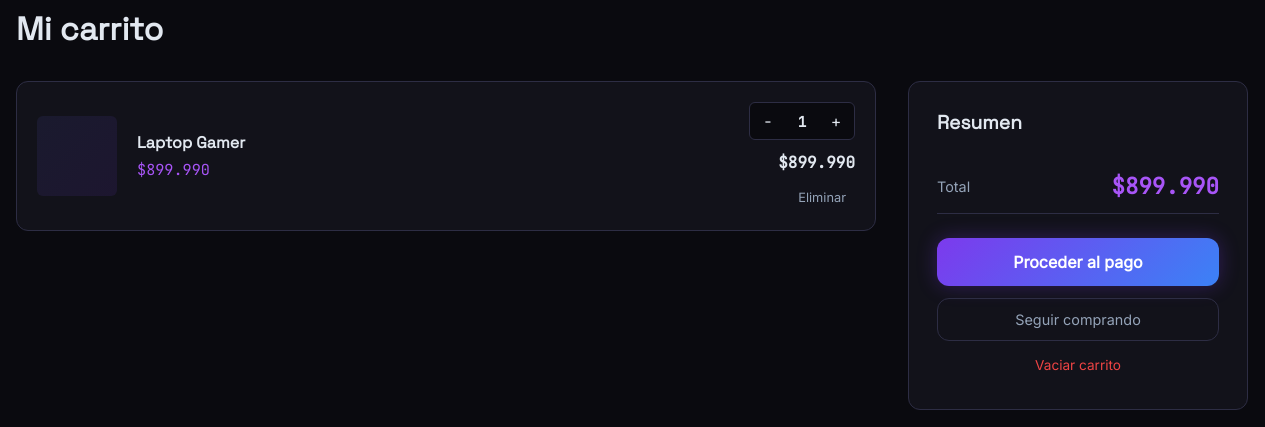
HU-07 · Carrito de compras › CA3: el selector de cantidad incrementa correctamente
Expected: the text "1" is shown, x1=798 y1=112 x2=806 y2=130
Click the button with test id "btn-incrementar-1": click(836, 121) x1=822 y1=107 x2=850 y2=135
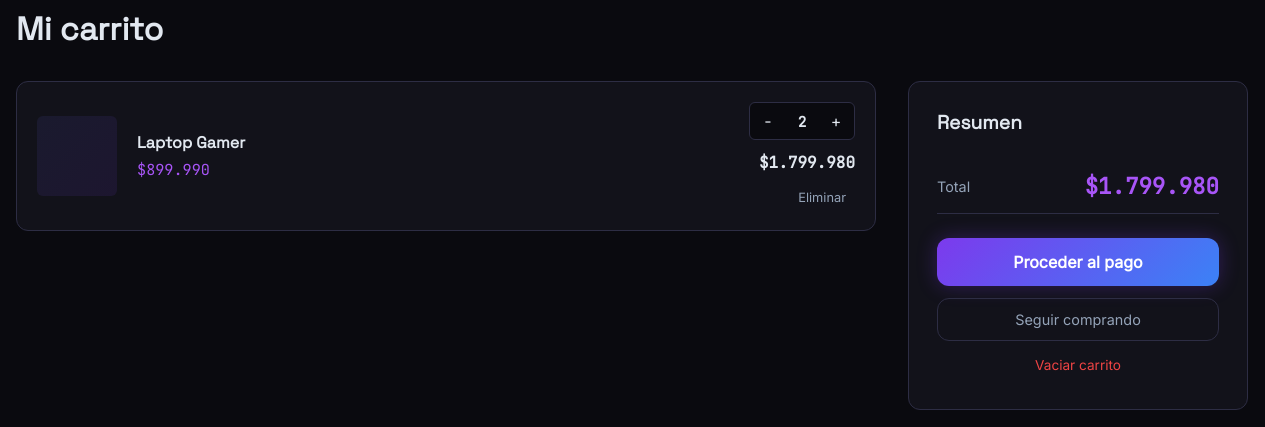
Now the text with test id "cantidad-1" reads "2", box x1=798 y1=112 x2=806 y2=130
